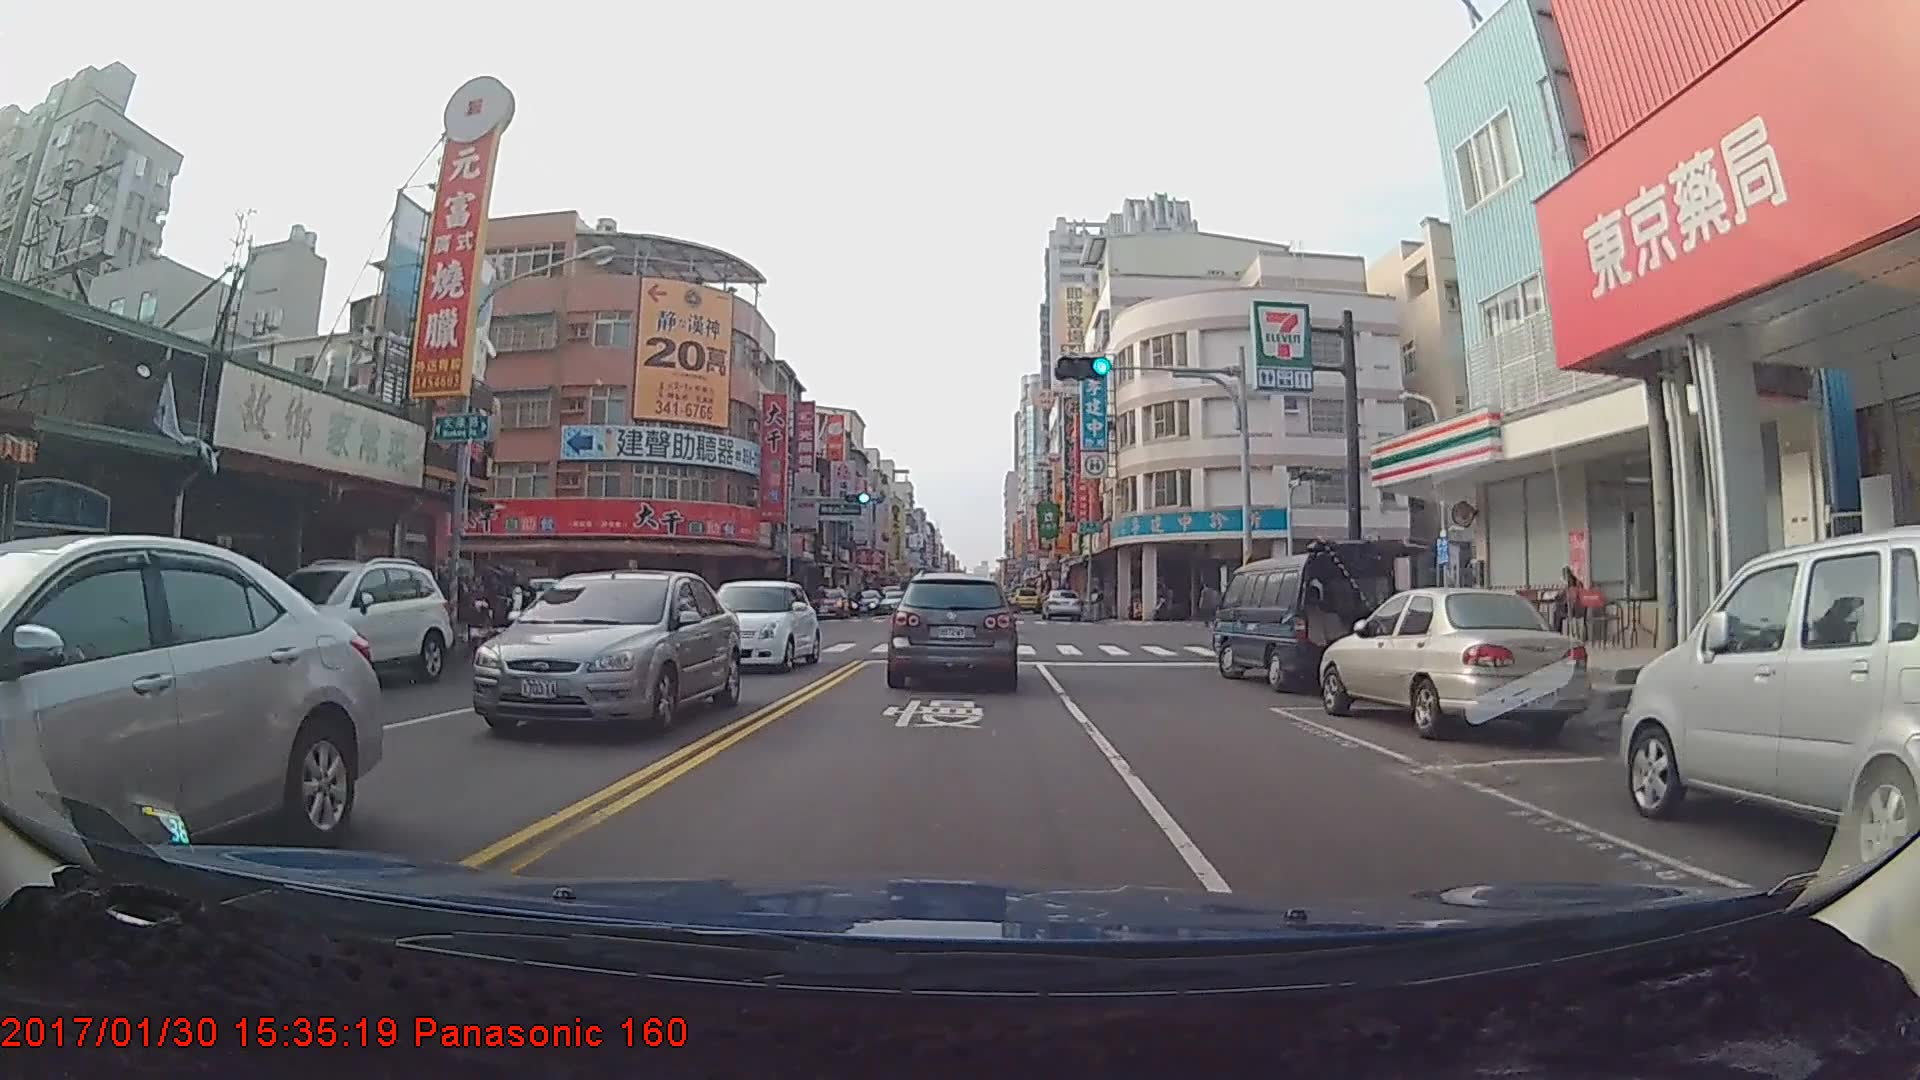pedestrian: (1200, 584, 1220, 632)
vehicle: (0, 536, 381, 926), (1622, 534, 1920, 854), (475, 566, 743, 735), (1322, 584, 1575, 737), (244, 552, 454, 693), (1212, 556, 1400, 690), (888, 571, 1018, 693), (699, 579, 820, 673), (1041, 588, 1082, 622), (810, 585, 849, 620), (848, 592, 884, 616), (1011, 587, 1039, 612)
